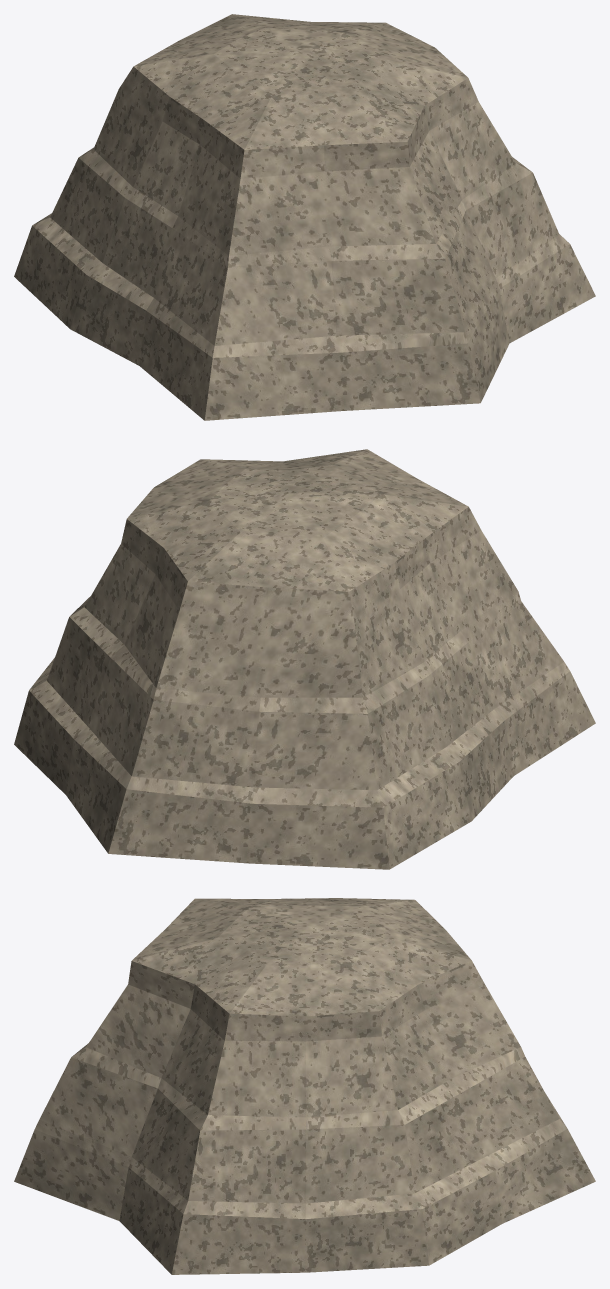
File: butte.glb
3 views of the same model, one above another, from view 1: azimuth 30°, elevation 25°; view 2: azimuth 150°, elevation 25°; view 3: azimuth 270°, elevation 25° (orthographic). The views are drawn at different scales.
Parts seen in each view (by area): view 1: butte; view 2: butte; view 3: butte.
Part boxes in pixels (x1,y1,x2,y2): butte: (14, 14, 595, 420); butte: (14, 449, 595, 869); butte: (14, 898, 595, 1274).
Size of the model in its own units: 1.87 by 1.02 by 2.26.
Materials: 1 (1 with a texture image).
